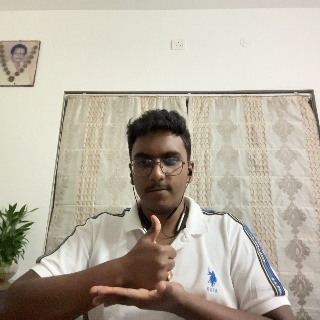Face: (127, 113, 194, 210)
Help: (105, 213, 188, 311)
